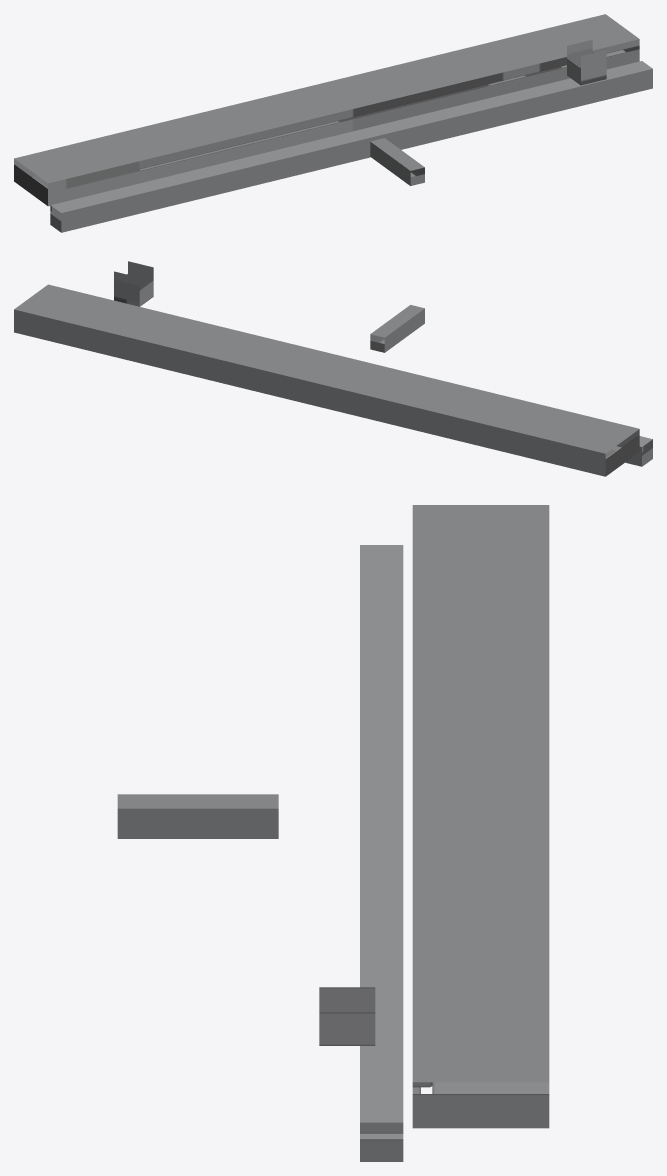
The picture shows the model from 3 angles, top to bottom: view 1: azimuth 30°, elevation 25°; view 2: azimuth 150°, elevation 25°; view 3: azimuth 270°, elevation 25°; orthographic projection. The views are drawn at different scales.
Bounding box in the file's own units: 1.01 × 0.0977 × 0.3198.
